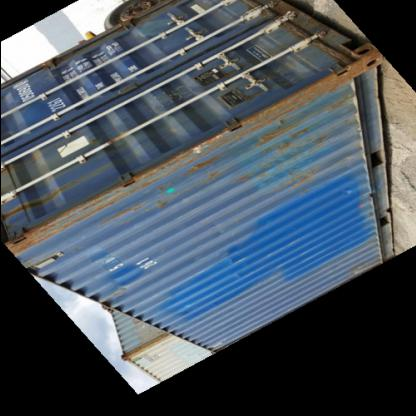Damage: (229, 66, 371, 156), (113, 136, 234, 200), (1, 198, 117, 255), (228, 154, 338, 190)
